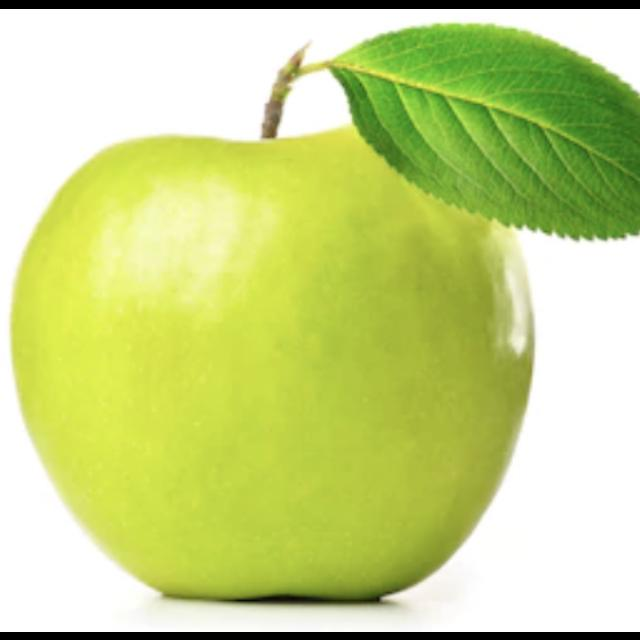Apel Segar: (28, 87, 520, 589)
